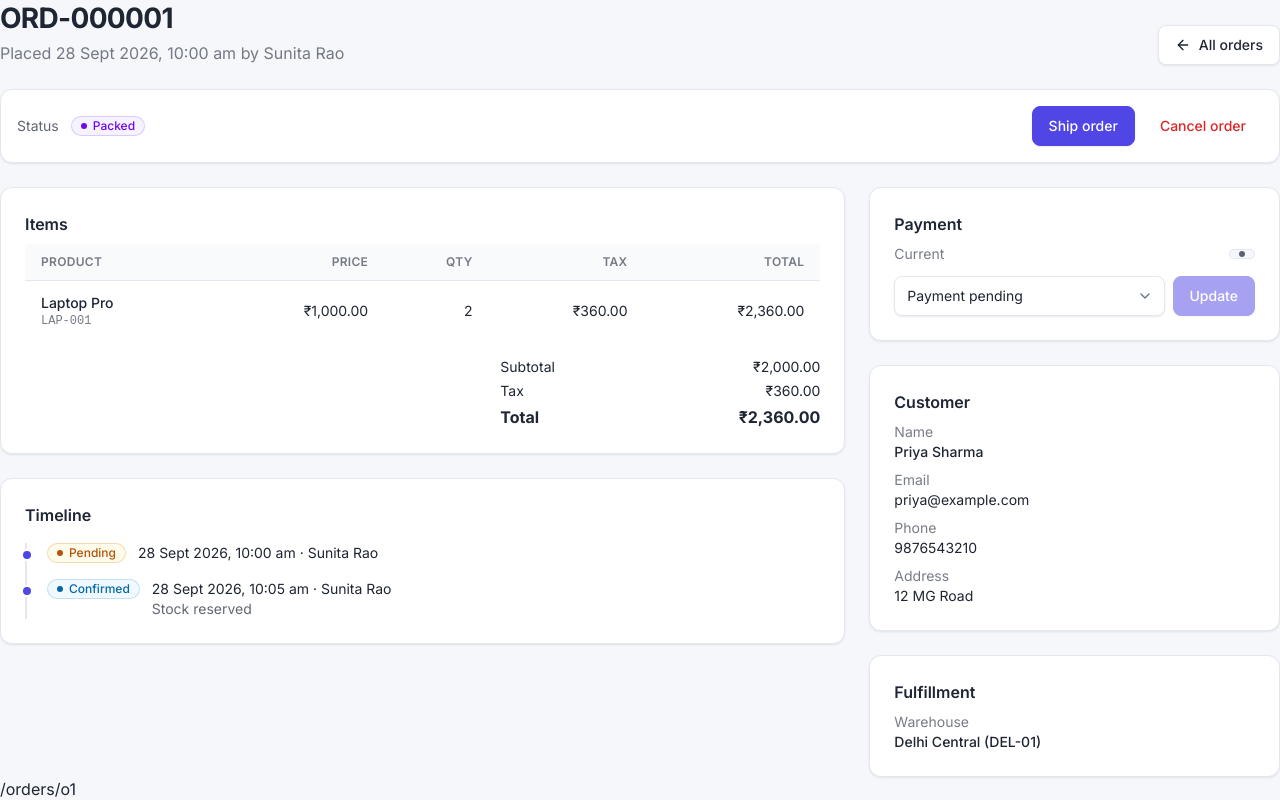
Test: OrderDetailPage › shipping needs a carrier and tracking number
The image size is (1280, 800).
Click the button with aria-label "Ship order ORD-000001": (1083, 126) top-left (1032, 106), bottom-right (1135, 146)
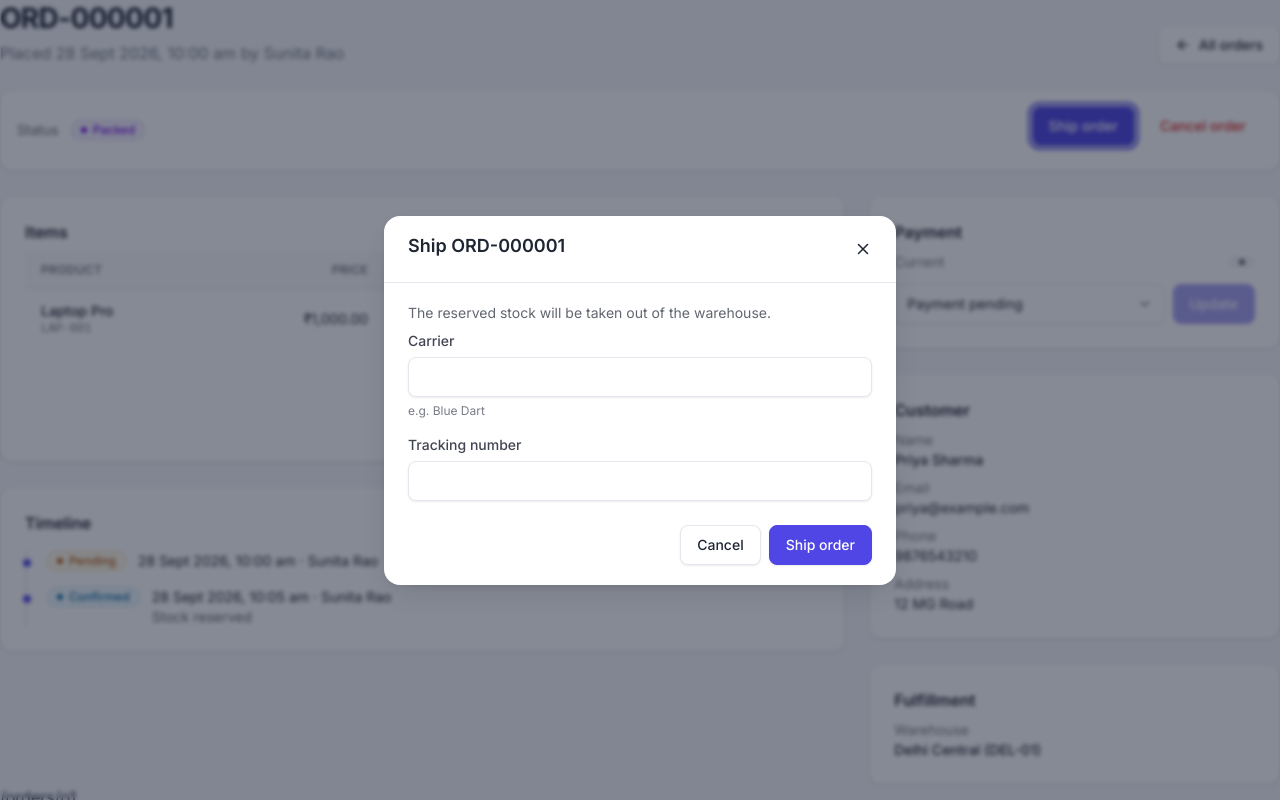
Click the button "Ship order": (820, 544) top-left (769, 524), bottom-right (872, 564)
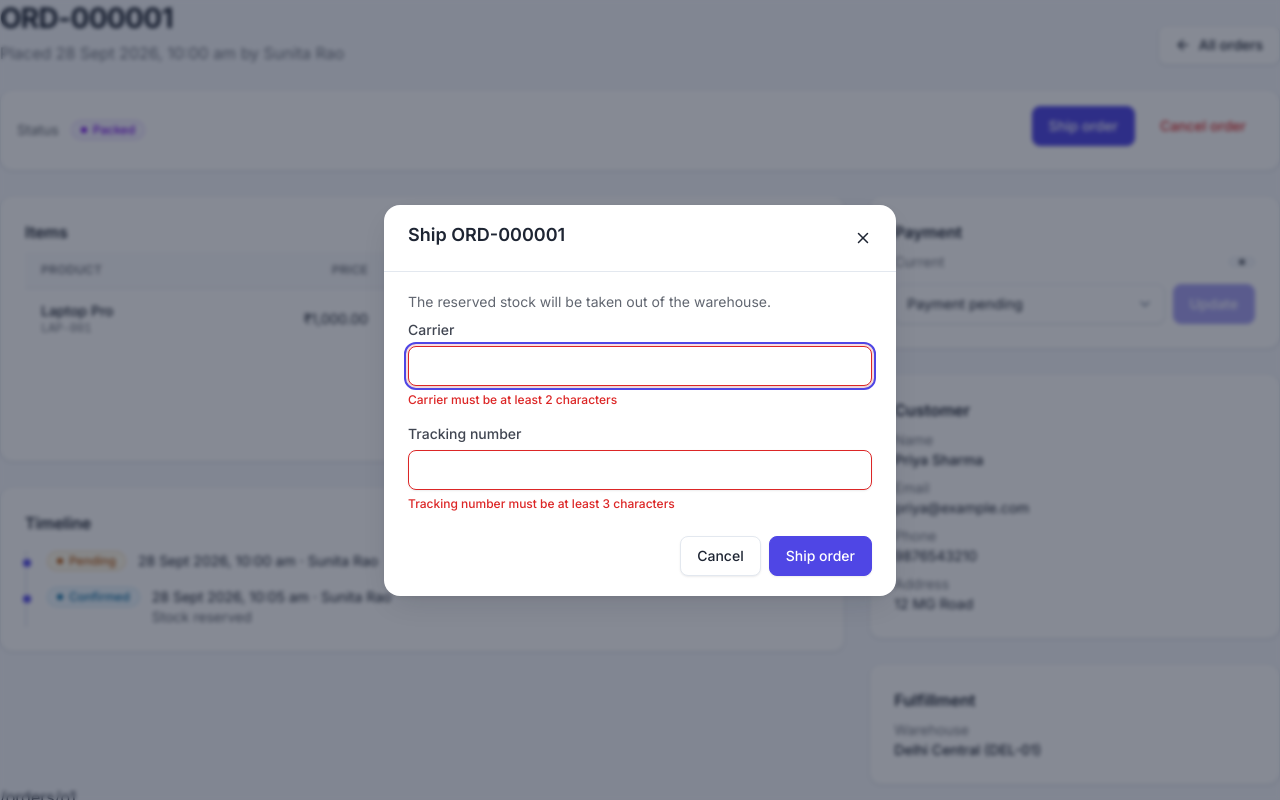
Now the text "Carrier must be at least 2 characters" is shown, box top-left (408, 392), bottom-right (617, 406)
Now the text "Tracking number must be at least 3 characters" is shown, box top-left (408, 496), bottom-right (675, 510)
In the field labelled "Carrier": (640, 366) top-left (408, 346), bottom-right (872, 386), type "Blue Dart"
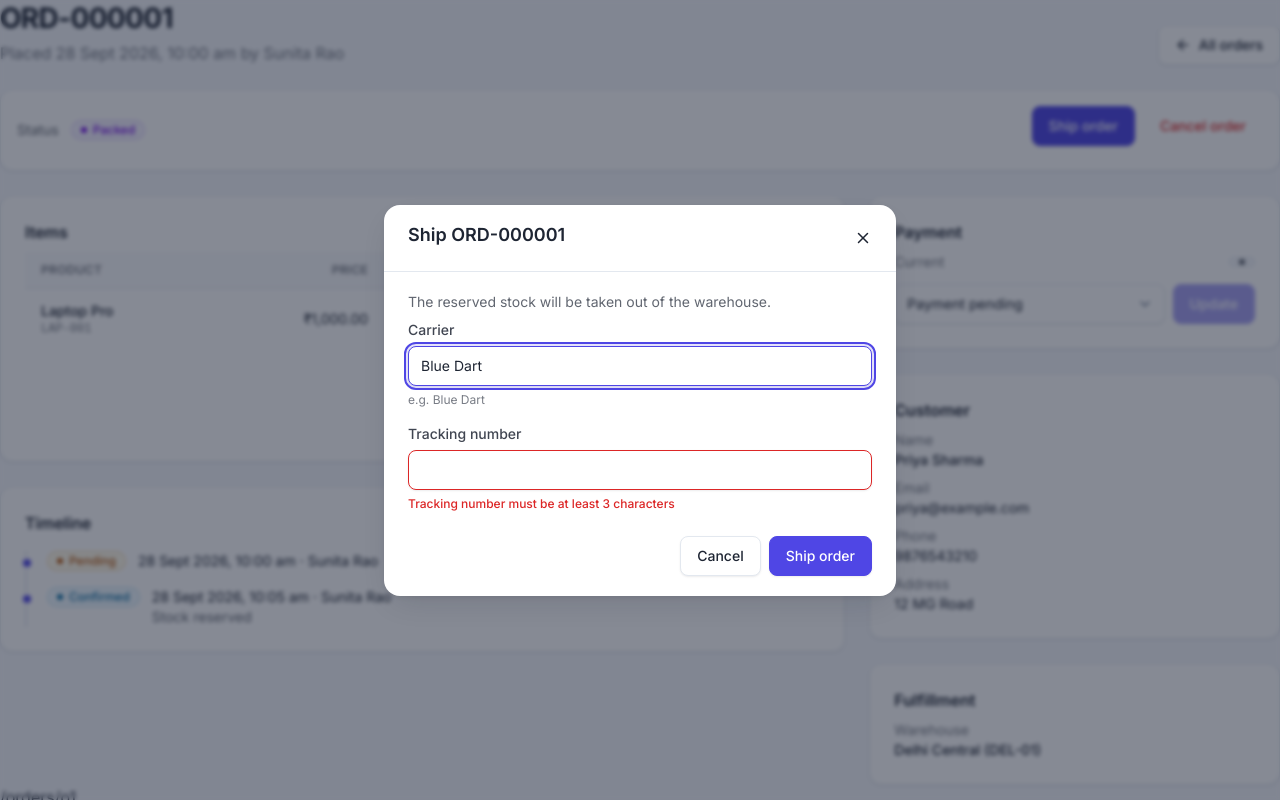
In the field labelled "Tracking number": (640, 470) top-left (408, 450), bottom-right (872, 490), type "BD123456"
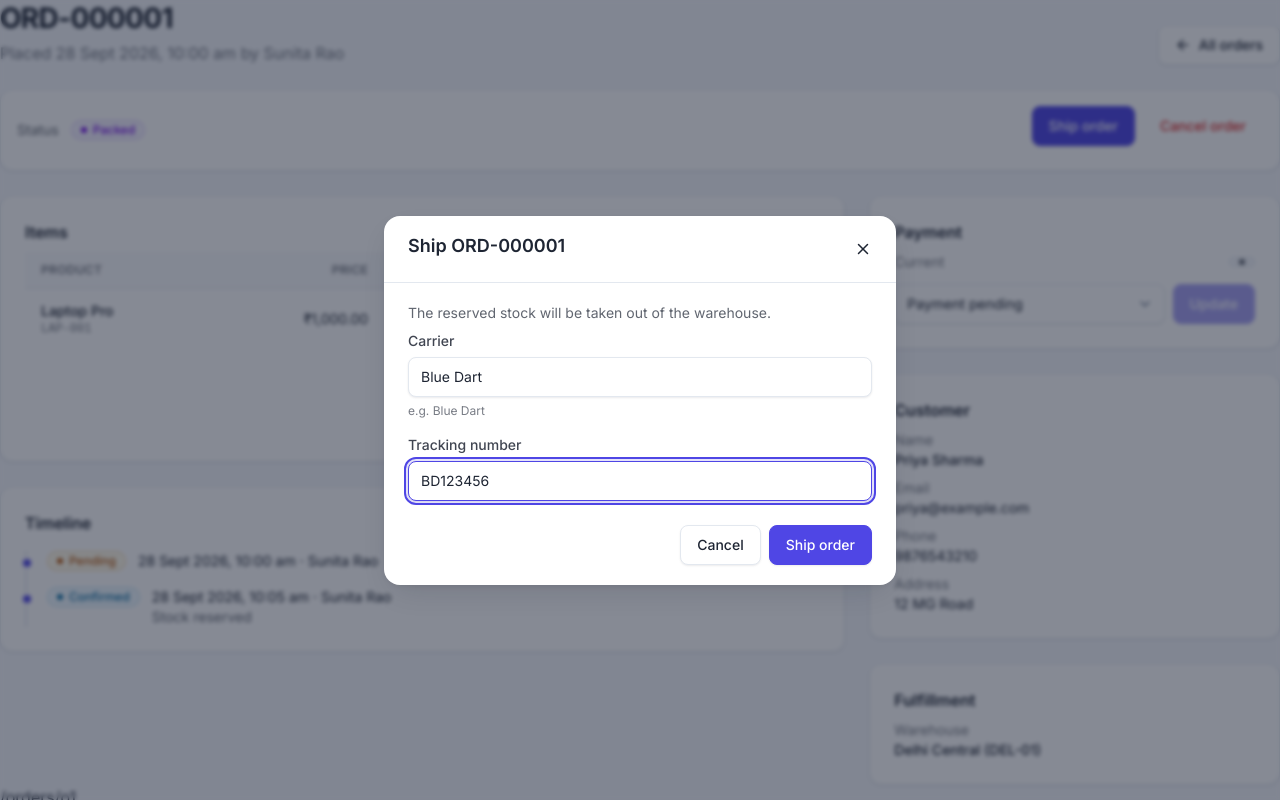
Click the button "Ship order": (820, 544) top-left (769, 524), bottom-right (872, 564)
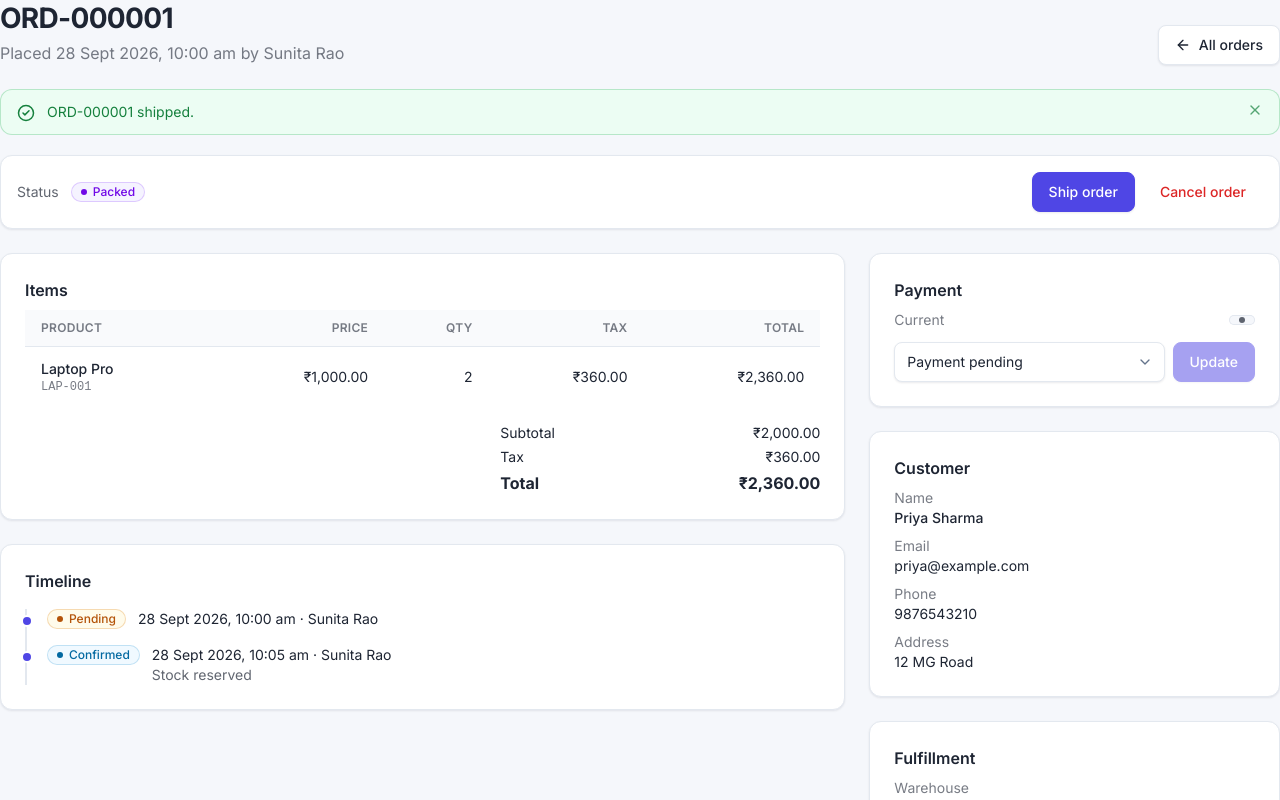
Now the text "ORD-000001 shipped." is shown, box top-left (47, 103), bottom-right (194, 120)
Now the dialog is gone
